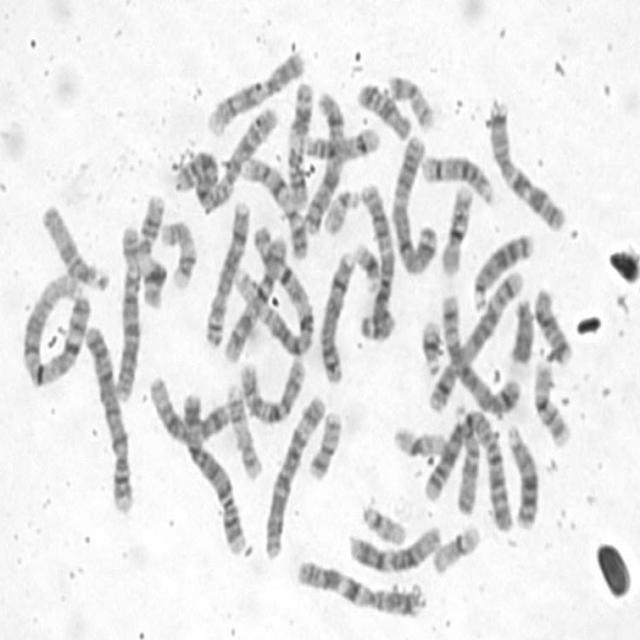A1: (237, 222, 317, 358), (16, 266, 94, 389)
A2: (420, 404, 518, 534), (171, 99, 280, 213)
A3: (388, 126, 439, 276), (356, 176, 398, 344)
B4: (178, 383, 249, 556), (81, 317, 136, 516)
B5: (427, 270, 524, 414), (436, 289, 520, 415)
C10: (220, 228, 292, 364), (235, 350, 308, 426)
C11: (283, 76, 315, 209), (136, 189, 168, 311)
C12: (147, 370, 234, 446), (345, 519, 443, 575)
C6: (261, 388, 328, 561), (110, 220, 144, 405)
C7: (484, 92, 569, 233), (294, 554, 428, 620)
C8: (200, 193, 252, 349), (316, 245, 359, 386)
C9: (202, 44, 307, 137), (239, 150, 310, 262)
D13: (470, 227, 535, 312), (502, 418, 540, 531)
D14: (418, 147, 497, 207), (300, 121, 382, 162)
D15: (38, 196, 113, 294), (452, 406, 482, 518)
E16: (529, 355, 573, 448), (437, 178, 475, 276)
E17: (223, 378, 264, 482), (157, 214, 199, 290)
E18: (353, 76, 413, 140), (530, 280, 574, 367)
F19: (428, 518, 482, 576), (389, 421, 449, 460)
F20: (383, 69, 438, 130), (305, 404, 345, 482)
G21: (350, 237, 383, 290), (417, 314, 444, 376)
G22: (357, 497, 408, 546), (320, 182, 362, 237)
X: (301, 84, 347, 237)
Y: (506, 292, 536, 367)
